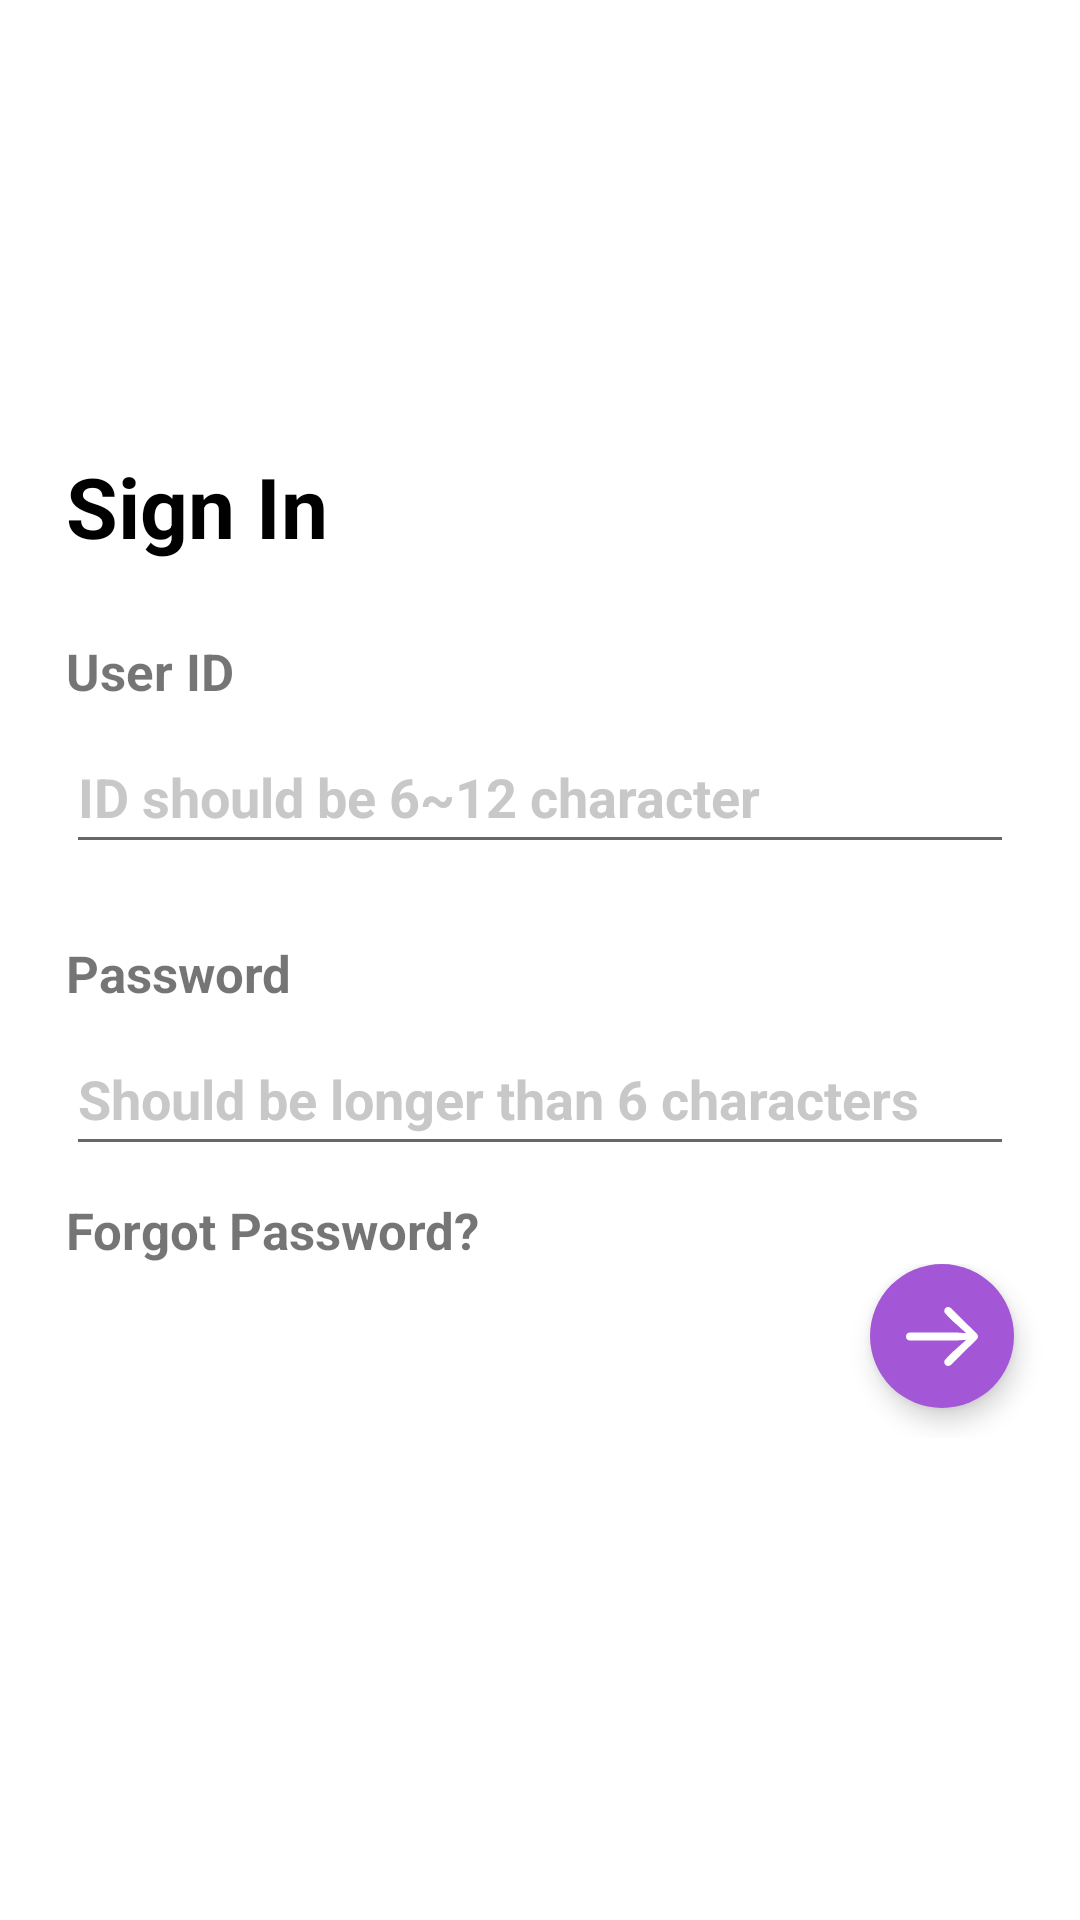

Where to tap for icons on this 1080x1920 app screen, as (x=x, y=y):
Login: (x=942, y=1336)
